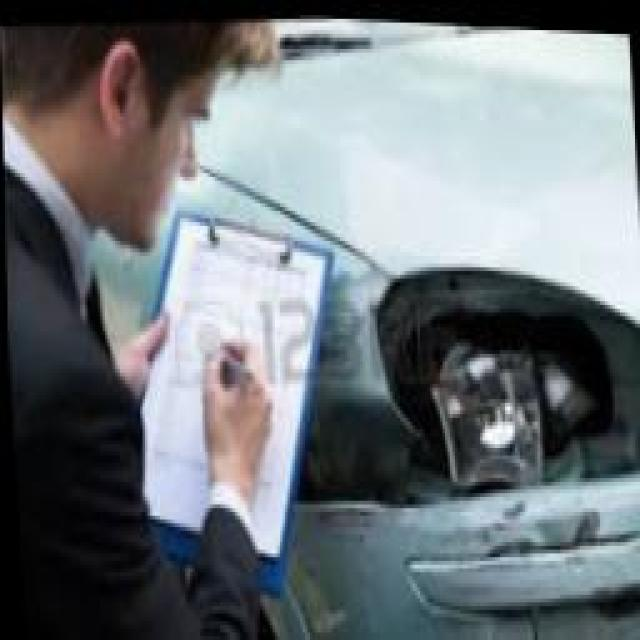Bumper: (294, 465, 640, 640)
Fender: (298, 406, 415, 495)
Light: (372, 268, 640, 499)
